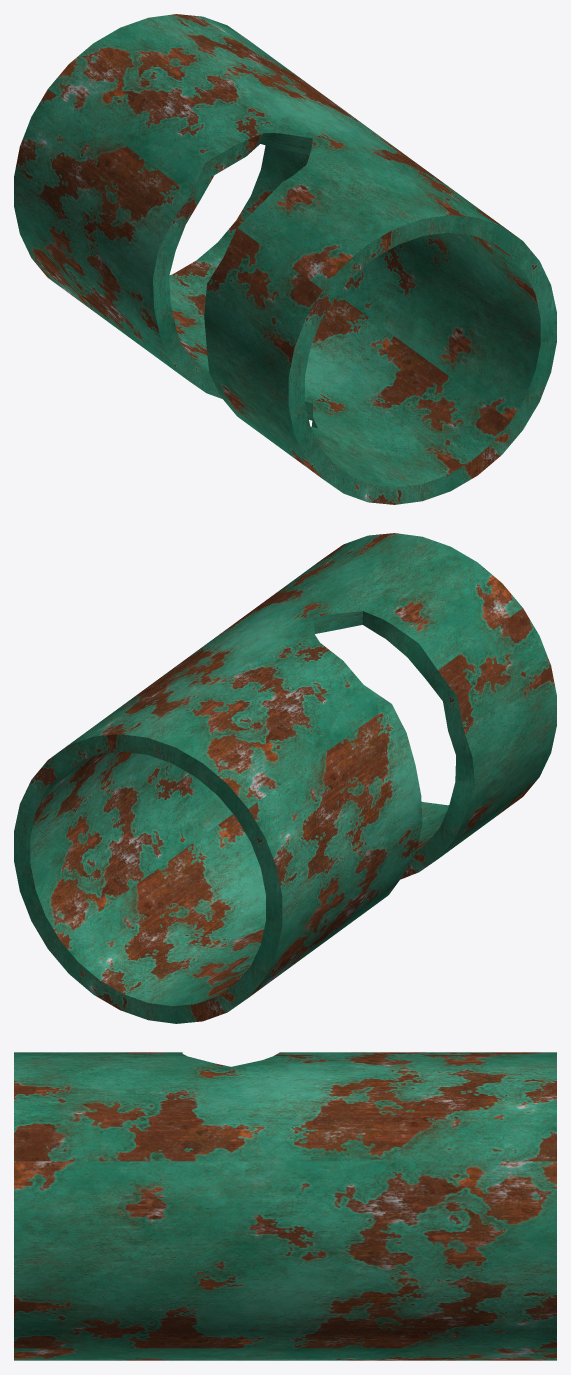
File: CEV 2.fbx
The picture shows the model from 3 angles, top to bottom: view 1: azimuth 30°, elevation 25°; view 2: azimuth 150°, elevation 25°; view 3: azimuth 270°, elevation 25°; orthographic projection.
Parts seen in each view (by area): view 1: Tube002; view 2: Tube002; view 3: Tube002.
Boxes of the visible parts, x1,y1,x2,y2 form: Tube002: (14, 14, 556, 504); Tube002: (14, 533, 556, 1023); Tube002: (14, 1052, 556, 1360).
Bounding box in the file's own units: 155 × 156 × 275.
